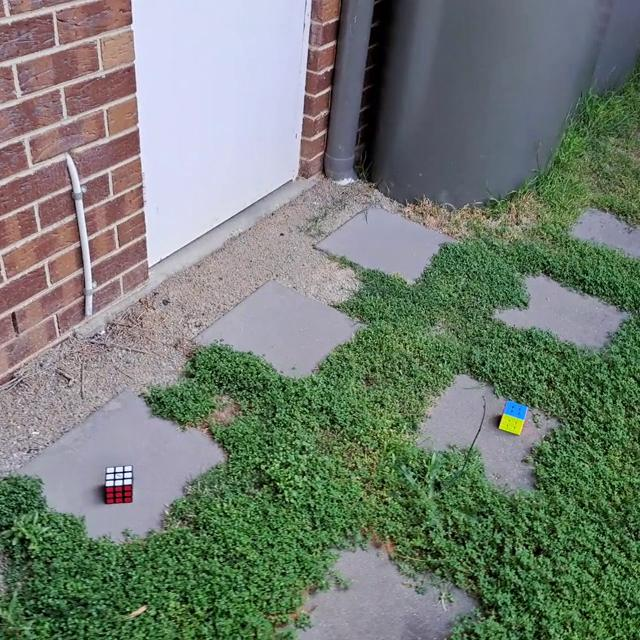rubix_cube: (102, 464, 135, 506), (497, 399, 530, 436)
